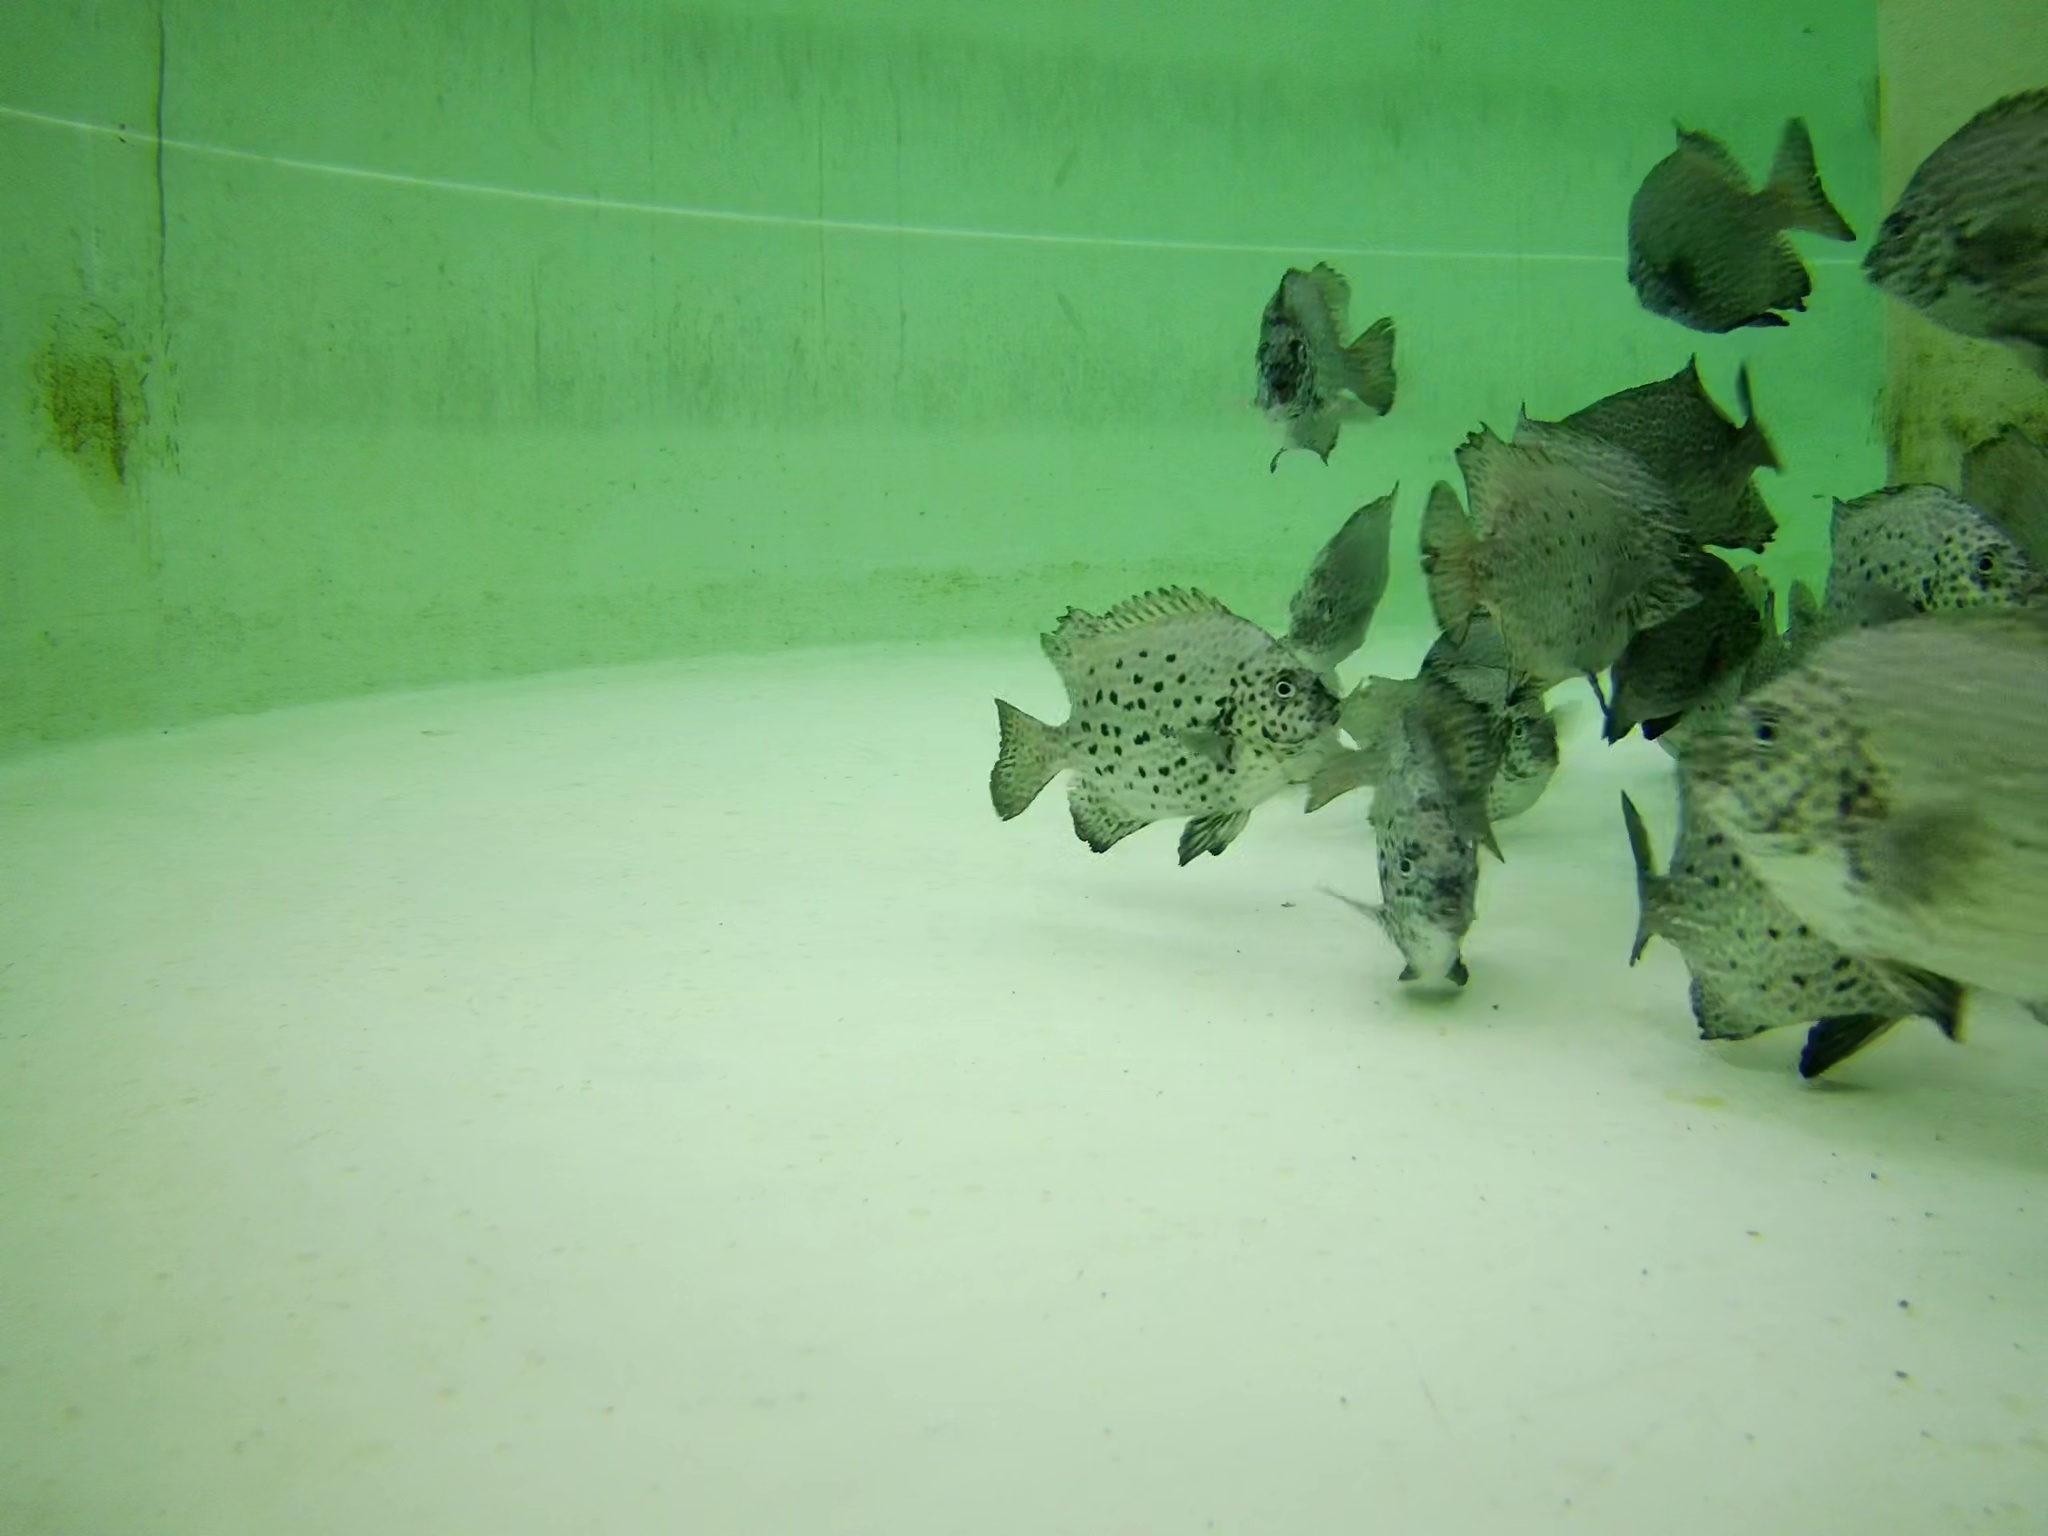fish: (1682, 613, 2048, 1007), (972, 594, 1345, 852), (1606, 766, 1925, 1026), (1403, 429, 1706, 681), (1861, 89, 2048, 366), (1530, 365, 1795, 560), (1622, 119, 1830, 339), (1232, 253, 1401, 453), (1366, 729, 1490, 994), (1326, 689, 1556, 821), (1825, 478, 2042, 613), (1274, 489, 1397, 644)
